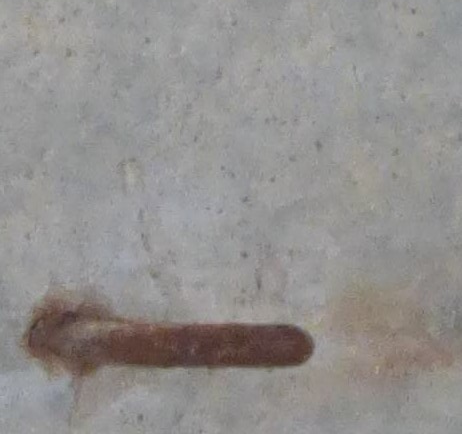Exposed reinforcement: (46, 323, 315, 370)
